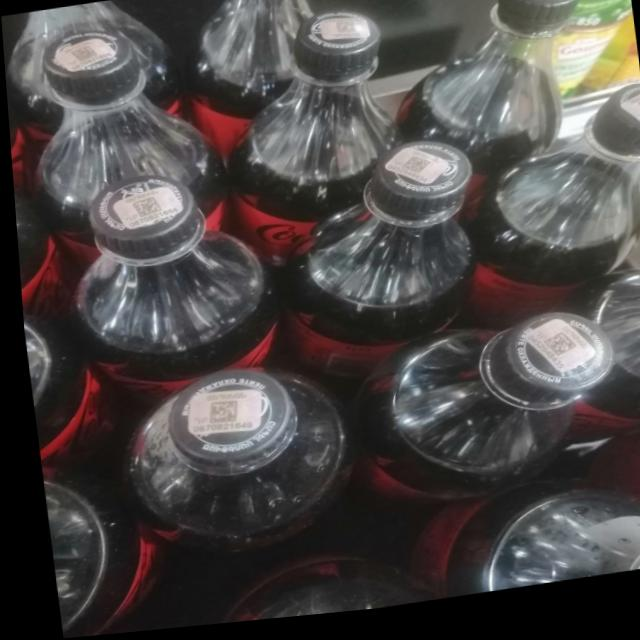datamatrix: (200, 402, 235, 431), (538, 342, 572, 370), (129, 198, 161, 222), (400, 162, 430, 184), (70, 46, 100, 67), (333, 25, 360, 42), (537, 1, 562, 2)
